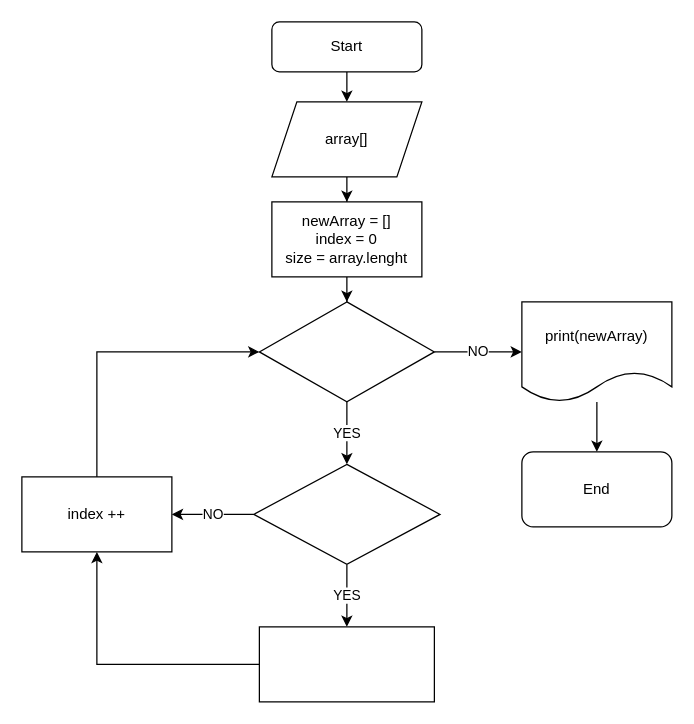
This 694x724 diagram has some shape labels left out. The centre of each missing label's shape, as x and y in pixels:
array[index].lenght <= 3: the point at 346,513
index < array.lenght: the point at 346,351
newArray[] = array[index]: the point at 346,664
